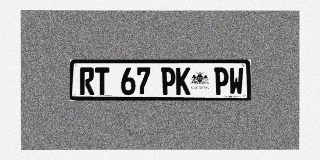6: (121, 67, 135, 95)
7: (136, 67, 150, 95)
K: (176, 67, 190, 95)
P: (161, 67, 175, 95), (214, 67, 228, 95)
R: (80, 67, 94, 95)
T: (95, 67, 109, 95)
W: (229, 67, 243, 95)
